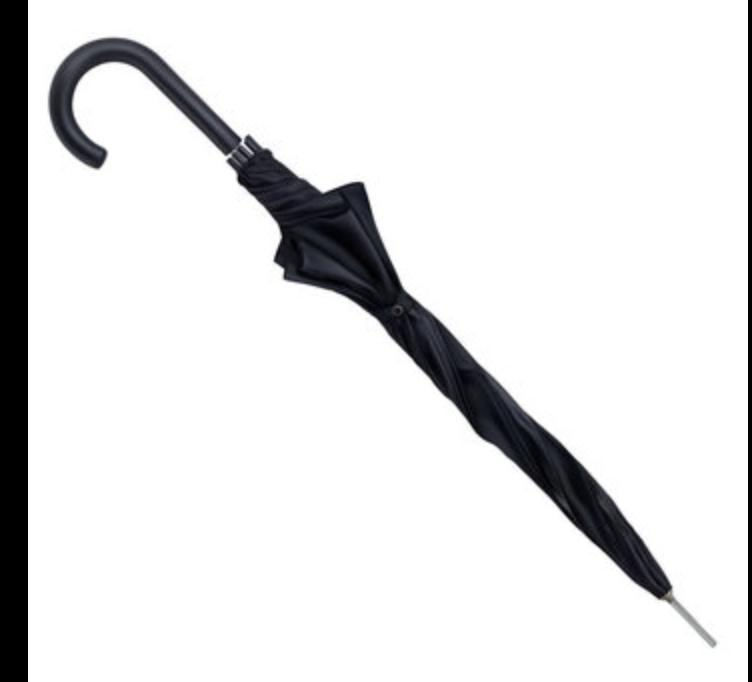Umbrella: (42, 29, 728, 656)
